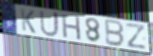8: (84, 17, 102, 44)
B: (105, 18, 126, 48)
H: (61, 13, 83, 42)
K: (19, 8, 37, 35)
U: (39, 9, 61, 38)
Z: (125, 21, 147, 50)
